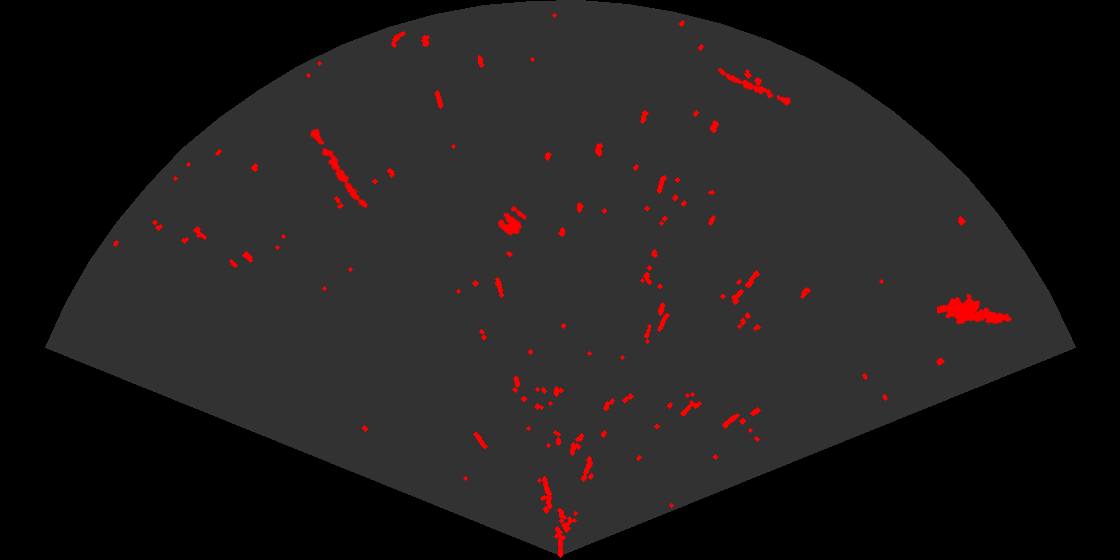ball: (496, 204, 528, 237)
chain: (308, 127, 369, 210), (715, 66, 794, 108)
frogman: (937, 292, 1013, 326)
